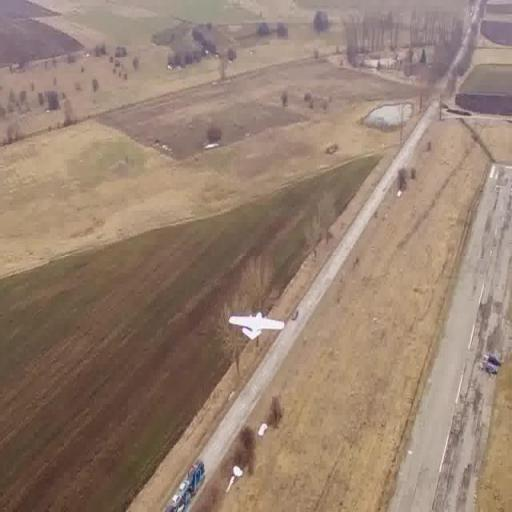uav: (226, 299, 288, 345)
